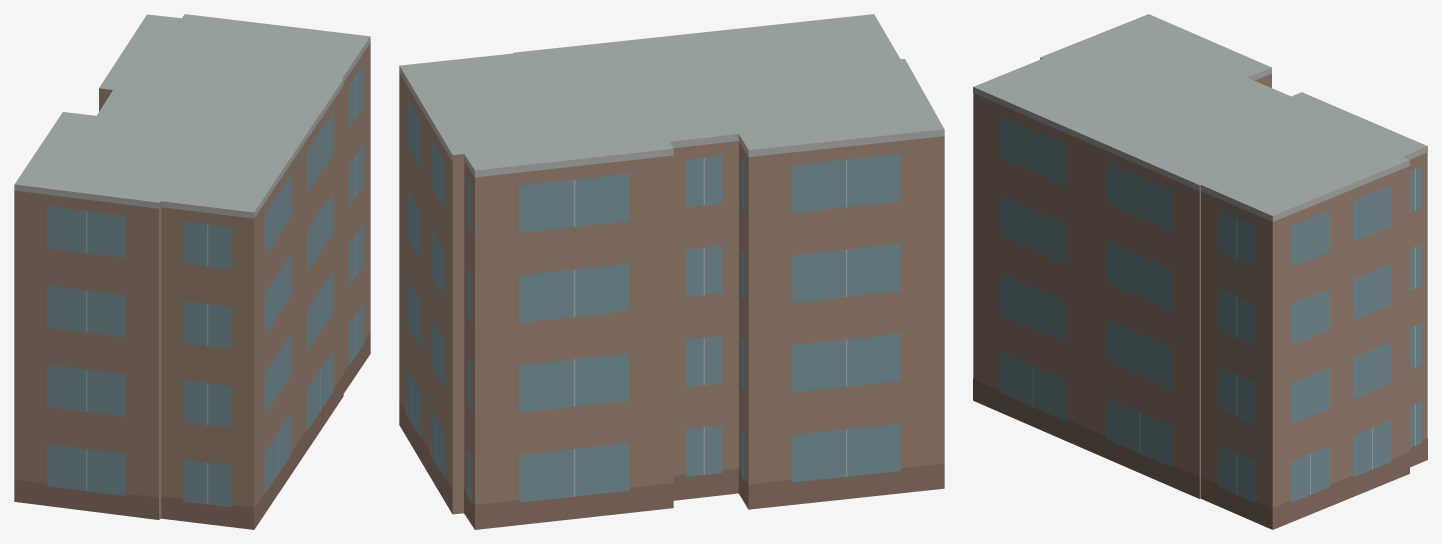
The model's file is survey-upis-32658137.glb.
3 views of the same model, side by side, from view 1: azimuth 30°, elevation 25°; view 2: azimuth 150°, elevation 25°; view 3: azimuth 270°, elevation 25° (orthographic). The views are drawn at different scales.
Visible parts, largest first — view 1: survey-upis-32658137.tmp; view 2: survey-upis-32658137.tmp; view 3: survey-upis-32658137.tmp.
Boxes of the visible parts, x1=… form: survey-upis-32658137.tmp: x1=14, y1=14, x2=370, y2=529; survey-upis-32658137.tmp: x1=399, y1=14, x2=944, y2=529; survey-upis-32658137.tmp: x1=973, y1=14, x2=1427, y2=529.
Size of the model in its own units: 17.76 by 12.85 by 16.88.
